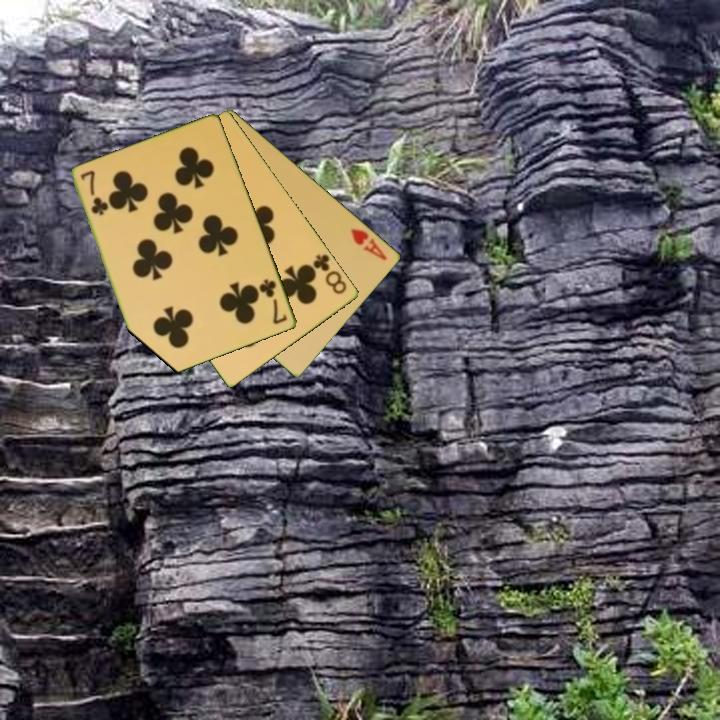7c: (256, 275, 291, 328), (77, 167, 110, 218)
8c: (307, 251, 350, 297)
Ah: (348, 225, 390, 263)
